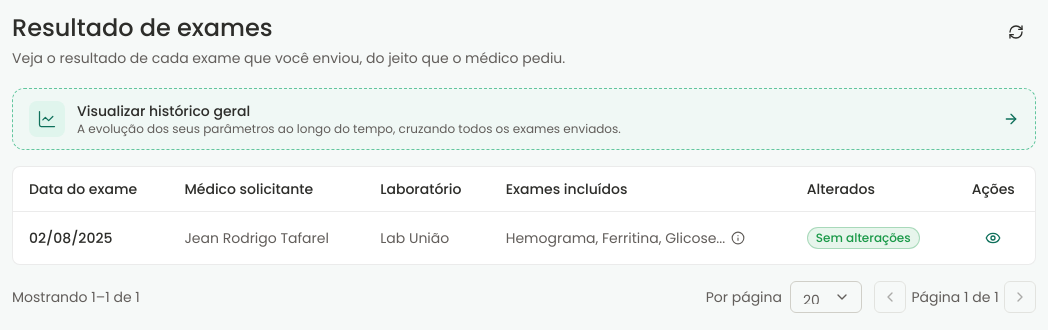
Test: ExamResultsView — célula "Exames incluídos" › mais de 3: mostra 3 + "..." e tooltip à direita com a lista completa
Expected: the cell "Hemograma, Ferritina, Glicose..." is shown, [490, 212, 791, 264]
Hover over the element with class "cursor-default" at (626, 238), box [506, 228, 745, 248]
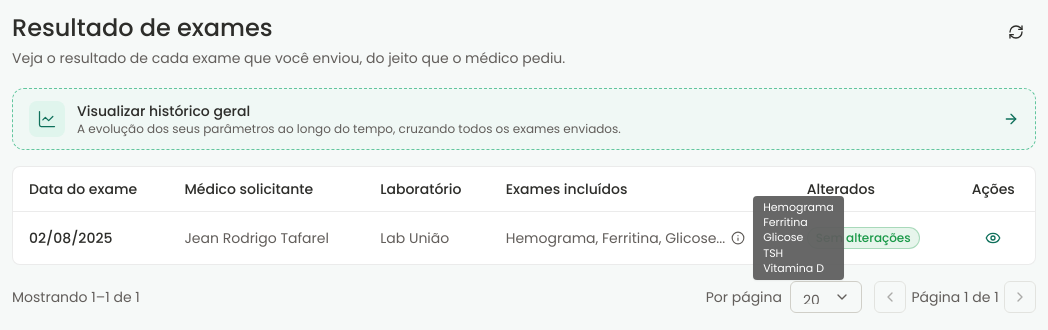
Expected: the tooltip shows "Hemograma", [763, 199, 834, 215]
Expected: the tooltip shows "Ferritina", [763, 214, 808, 230]
Expected: the tooltip shows "Glicose", [763, 229, 804, 245]
